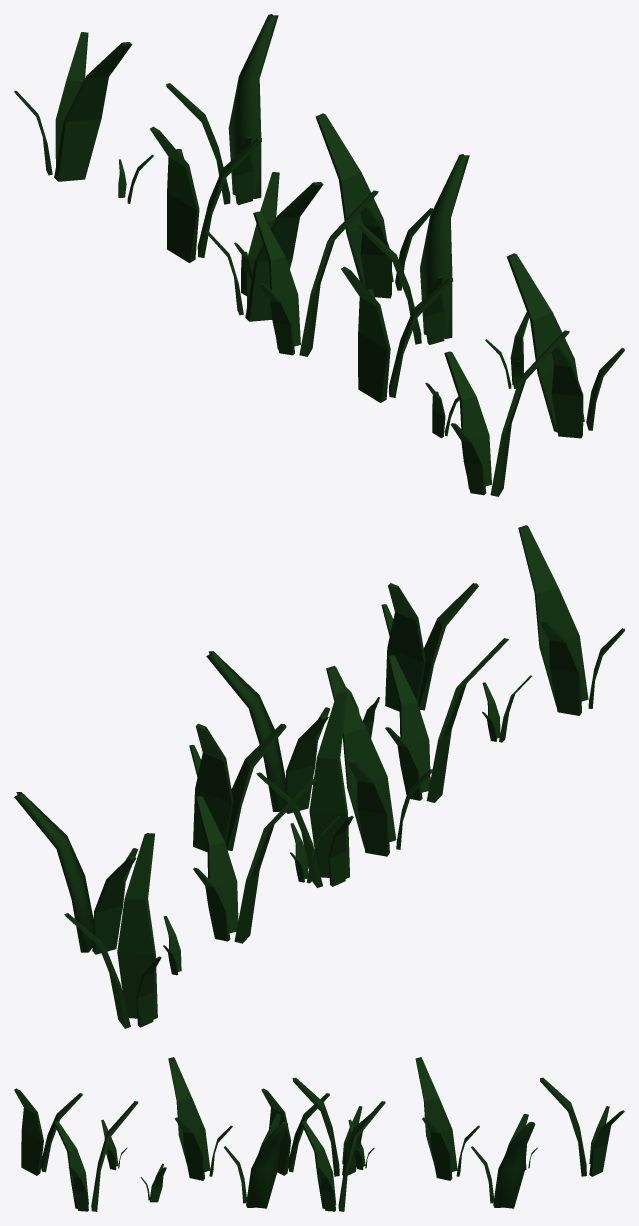
File: pasto_3.fbx
The picture shows the model from 3 angles, top to bottom: view 1: azimuth 30°, elevation 25°; view 2: azimuth 150°, elevation 25°; view 3: azimuth 270°, elevation 25°; orthographic projection. The views are drawn at different scales.
Parts seen in each view (by area): view 1: Cube.055; view 2: Cube.055; view 3: Cube.055.
Boxes of the visible parts, bbox=[...] form: Cube.055: bbox=[14, 14, 624, 496]; Cube.055: bbox=[14, 525, 624, 1028]; Cube.055: bbox=[14, 1057, 624, 1211].
Size of the model in its own units: 82.45 by 57 by 311.
